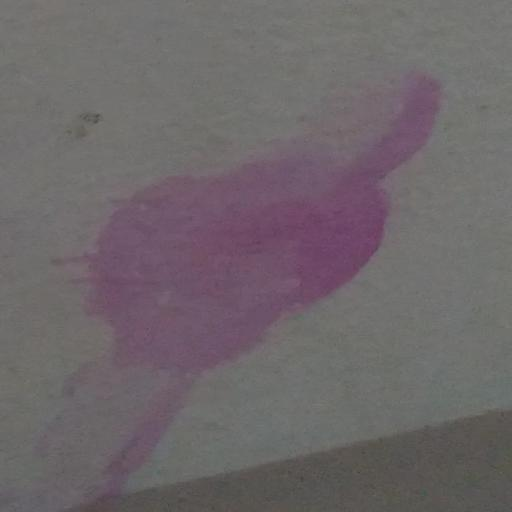stain: (49, 56, 459, 512)
